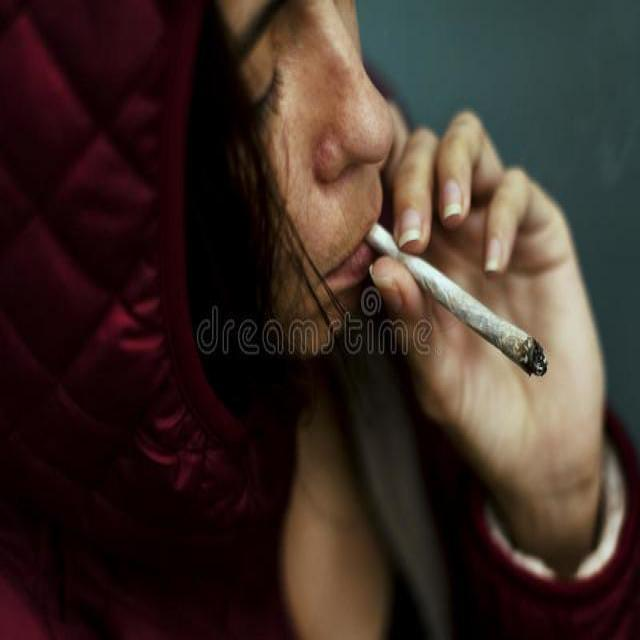Сигарета: (368, 221, 546, 380)
